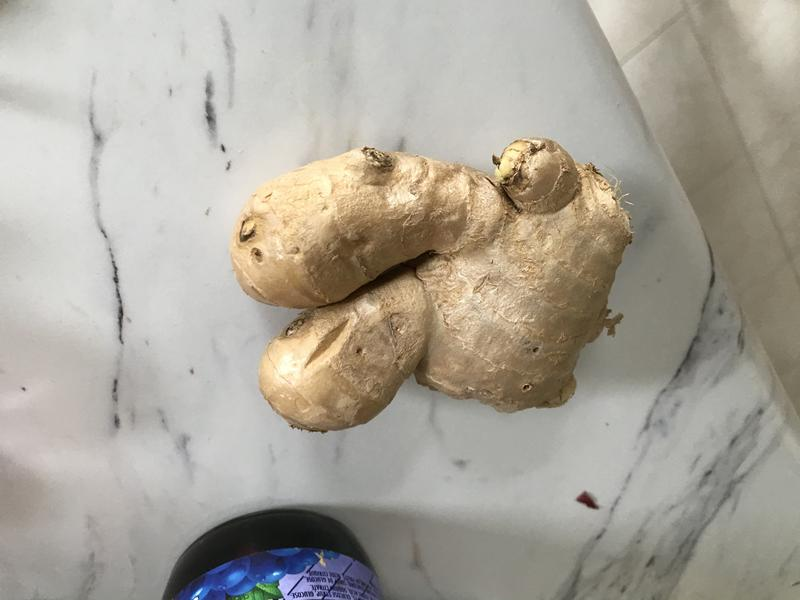ginger: (229, 132, 650, 447)
